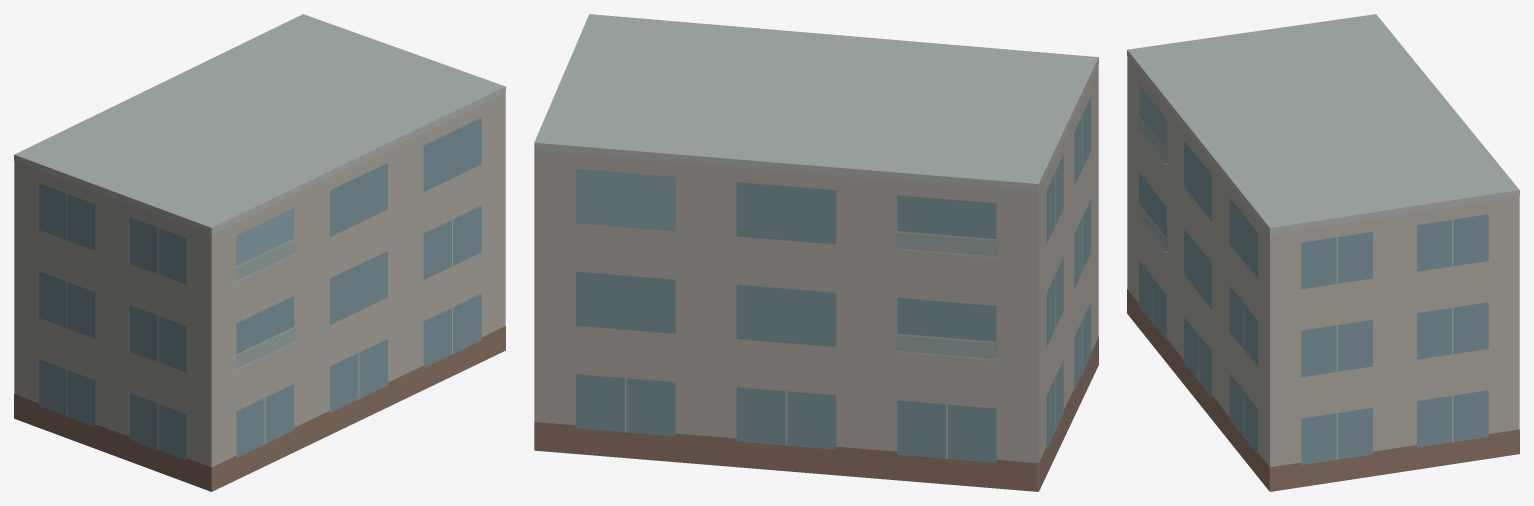
Rendered from survey-upis-32702951.glb.
The picture shows the model from 3 angles, left to right: view 1: azimuth 30°, elevation 25°; view 2: azimuth 150°, elevation 25°; view 3: azimuth 270°, elevation 25°; orthographic projection. The views are drawn at different scales.
Parts seen in each view (by area): view 1: survey-upis-32702951.tmp; view 2: survey-upis-32702951.tmp; view 3: survey-upis-32702951.tmp.
Boxes of the visible parts, <box> form: survey-upis-32702951.tmp: <box>14,14,505,491</box>; survey-upis-32702951.tmp: <box>534,14,1098,491</box>; survey-upis-32702951.tmp: <box>1127,14,1519,491</box>.
Bounding box in the file's own units: 17.75 × 10.2 × 13.76.
